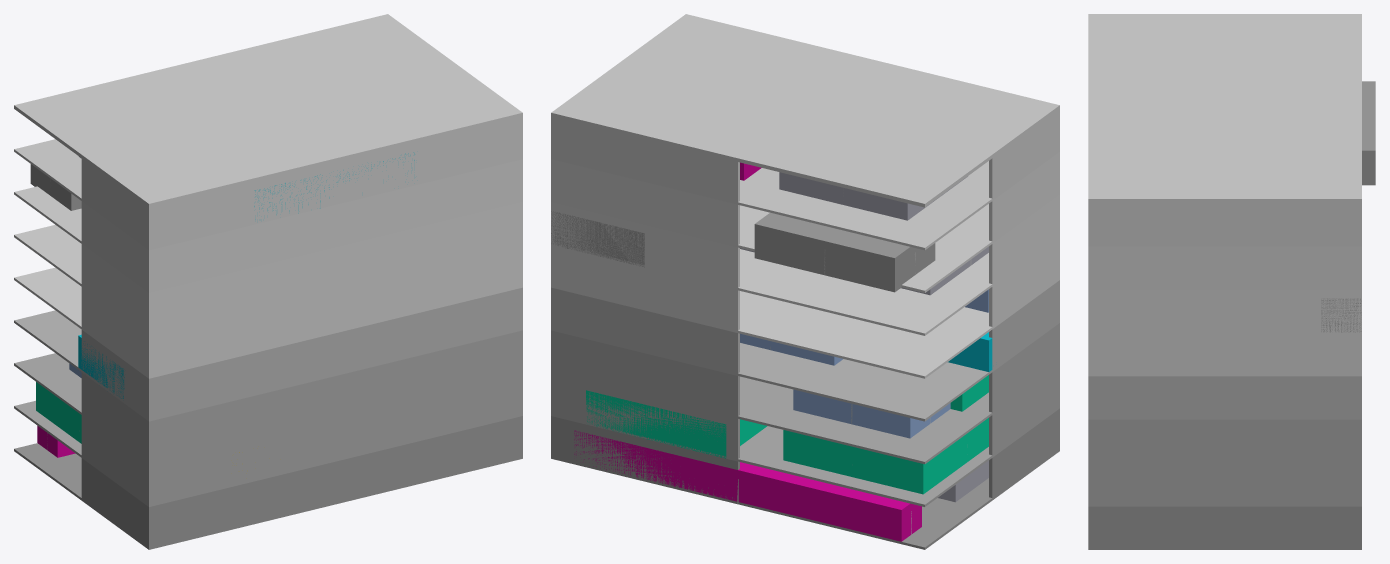
The model's file is 赤土崎多功能館_PowerPoint專用.glb.
3 views of the same model, side by side, from view 1: azimuth 30°, elevation 25°; view 2: azimuth 150°, elevation 25°; view 3: azimuth 270°, elevation 25° (orthographic).
Parts seen in each view (by area): view 1: world; view 2: world; view 3: world.
Part boxes in pixels (x1,y1,x2,y2): world: (14, 14, 522, 549); world: (551, 14, 1059, 549); world: (1088, 14, 1375, 549).
Bounding box in the file's own units: 6.4 × 5.66 × 4.2.
